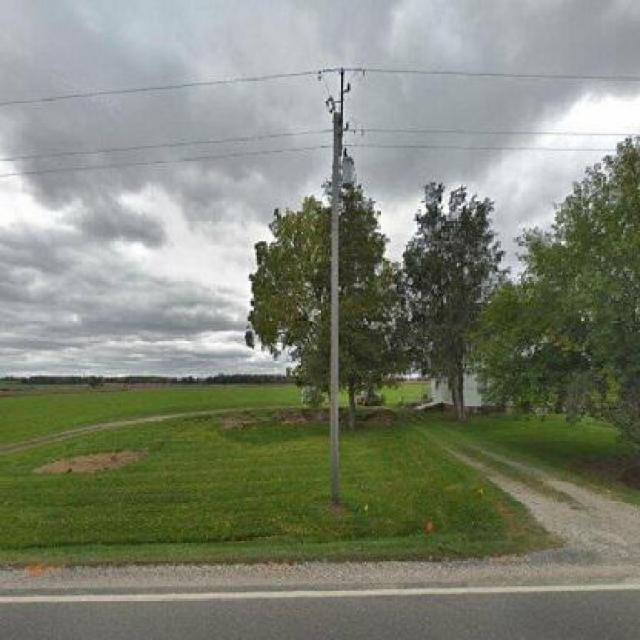pole: (308, 65, 370, 506)
